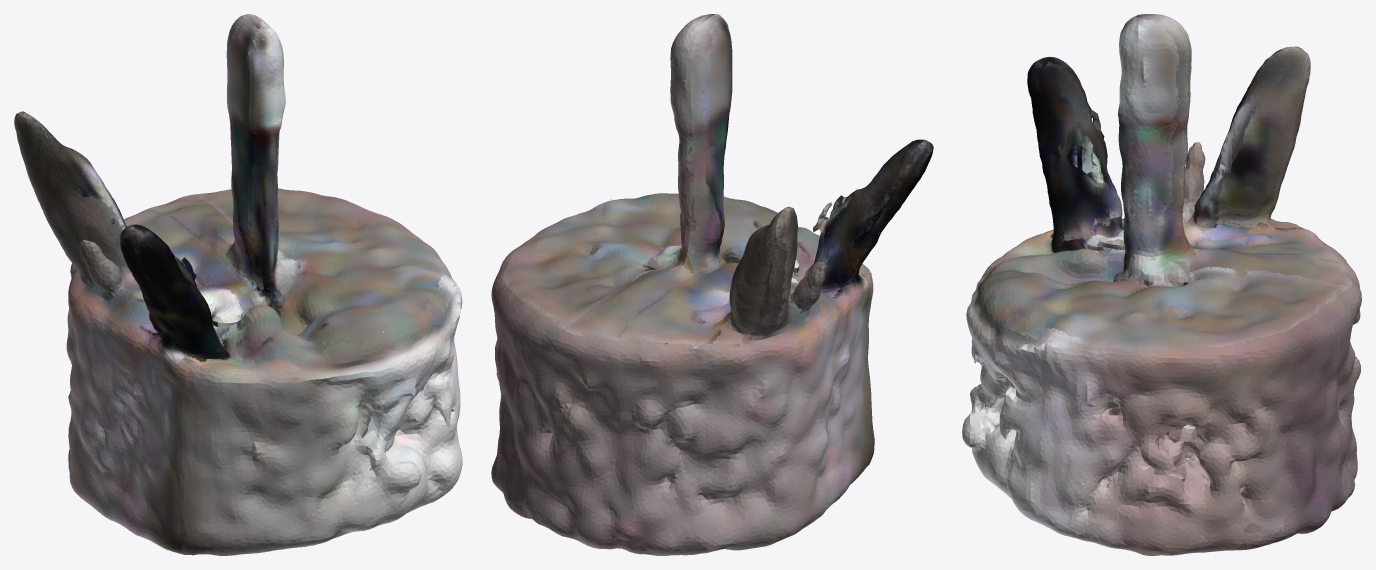
The model's file is pen_DG_mesh.glb.
The picture shows the model from 3 angles, left to right: view 1: azimuth 30°, elevation 25°; view 2: azimuth 150°, elevation 25°; view 3: azimuth 270°, elevation 25°; orthographic projection. The views are drawn at different scales.
Bounding box in the file's own units: 1.17 × 1.53 × 1.16.
Materials: 1 (1 with a texture image).
